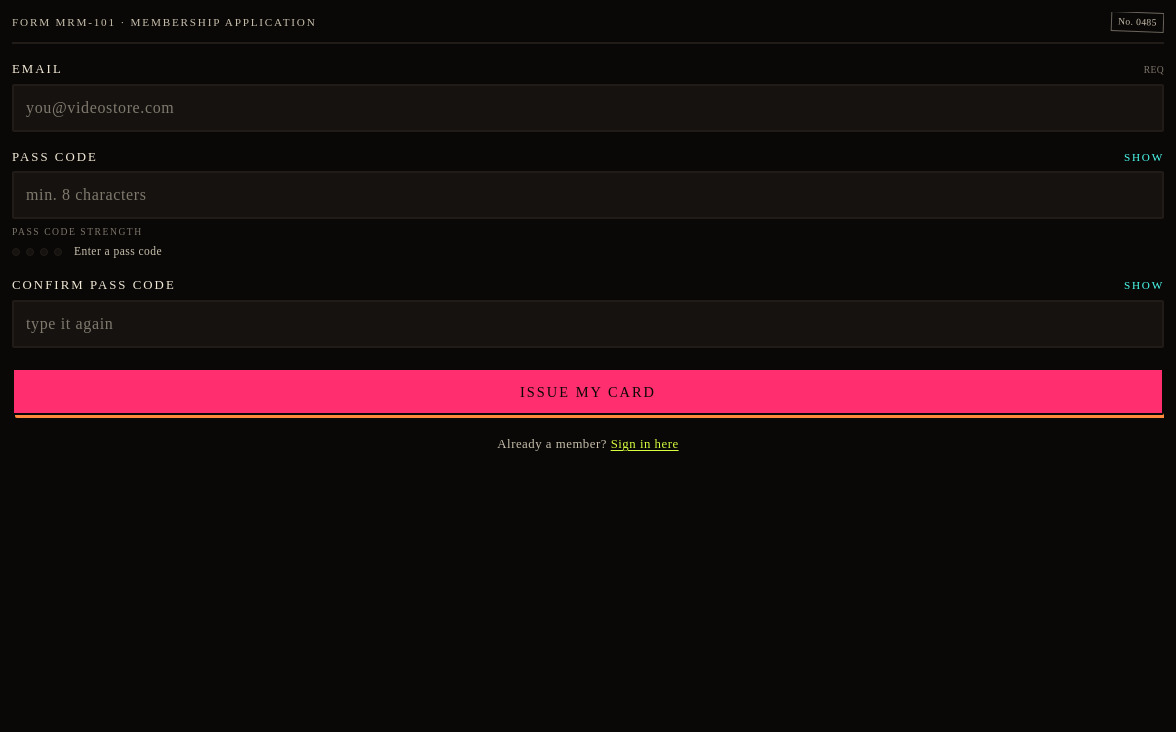
Test: SignupForm › falls back to the generic error body when the action error is empty
Type "existing@example.com" into the field labelled "Email REQ" at (588, 108), box [12, 84, 1164, 132]
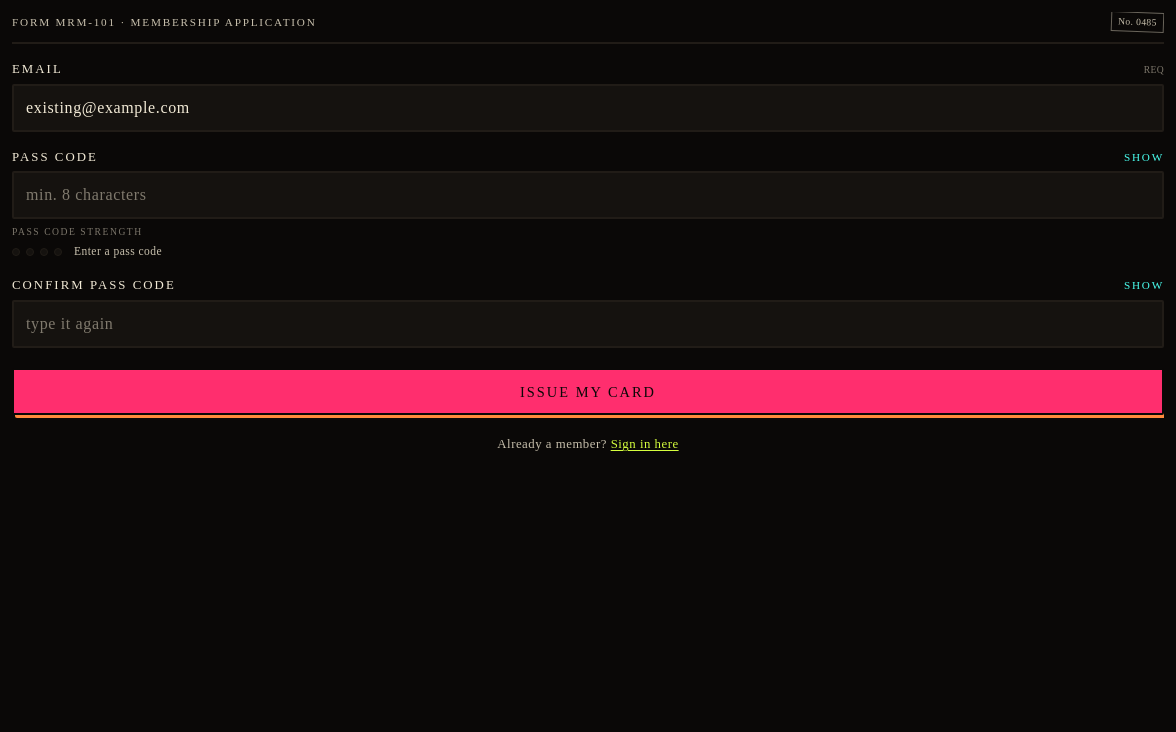
Type "password123" into the password field labelled "Pass code" at (588, 195), box [12, 171, 1164, 219]
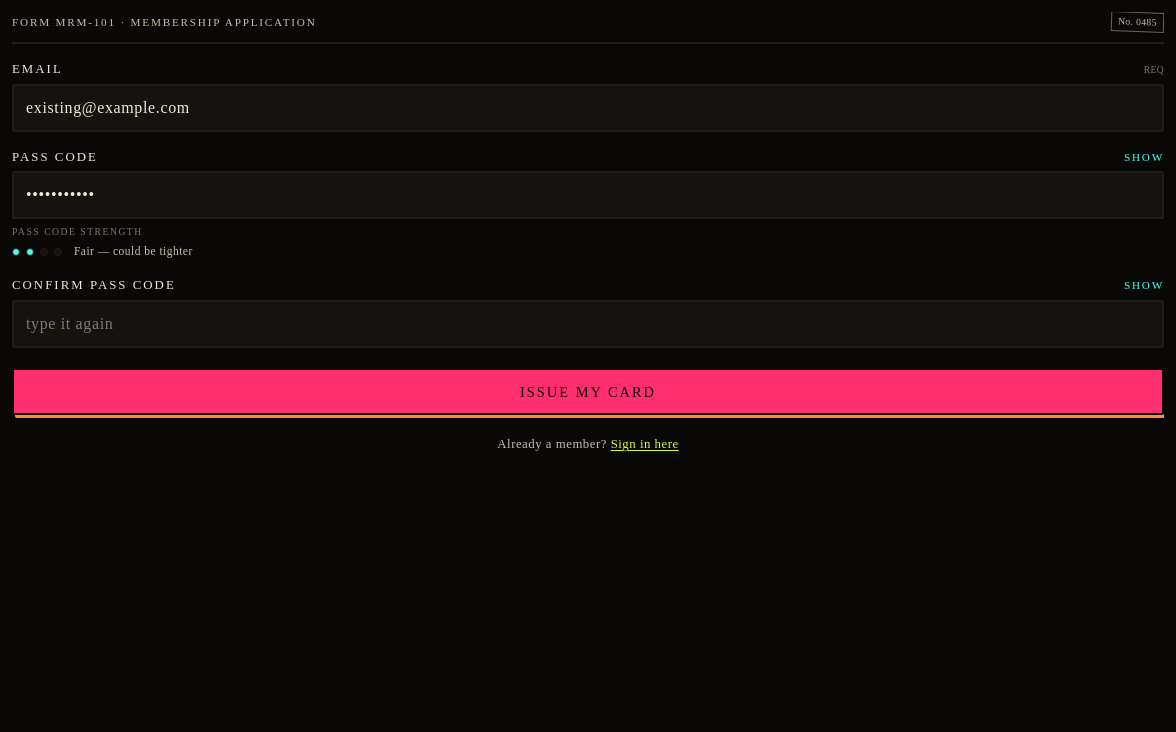
Type "password123" into the password field labelled "Confirm pass code" at (588, 324), box [12, 300, 1164, 348]
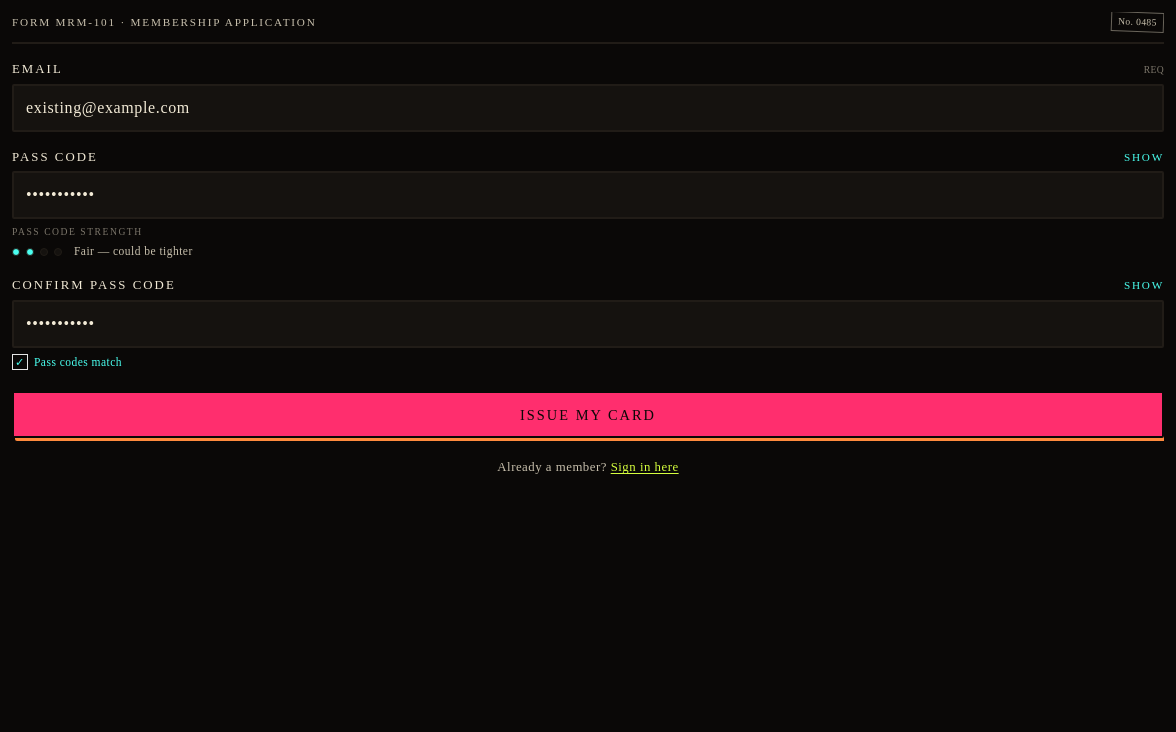
Click the button "Issue my card" at (588, 415), box [12, 391, 1164, 438]
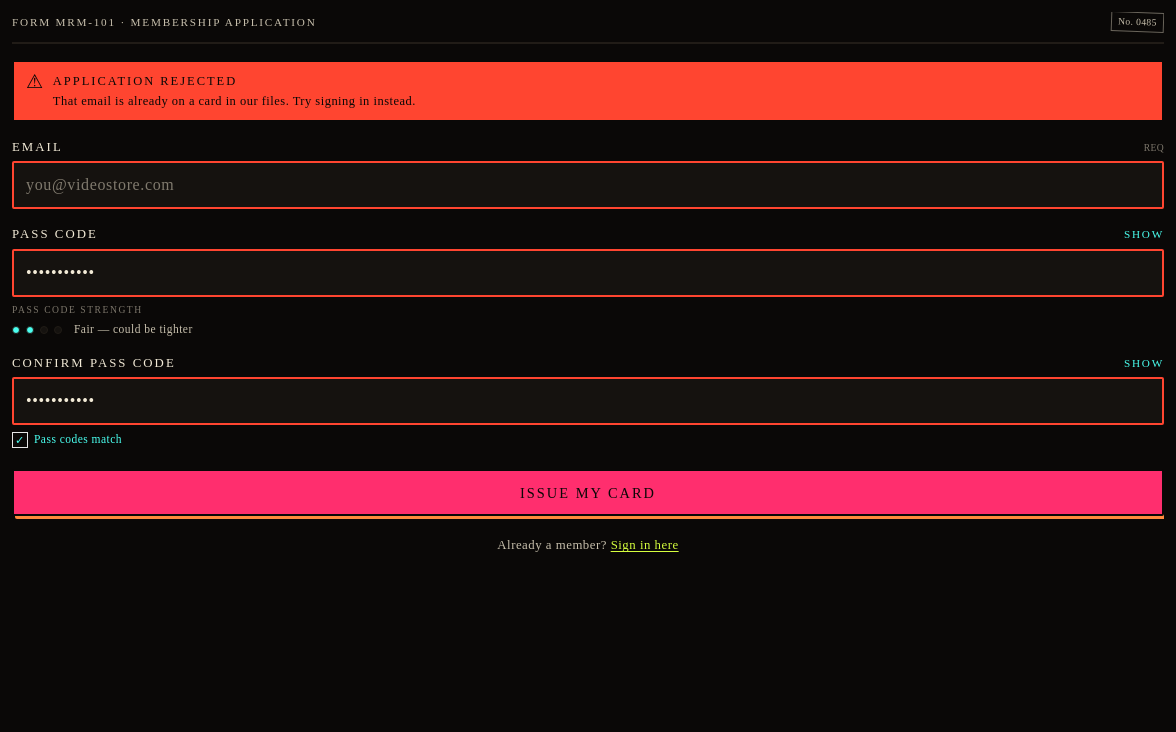
Check: the message that starts with "Application rejected" shows "That email is already on a card in our files. Try signing in instead.", box [53, 94, 416, 108]
